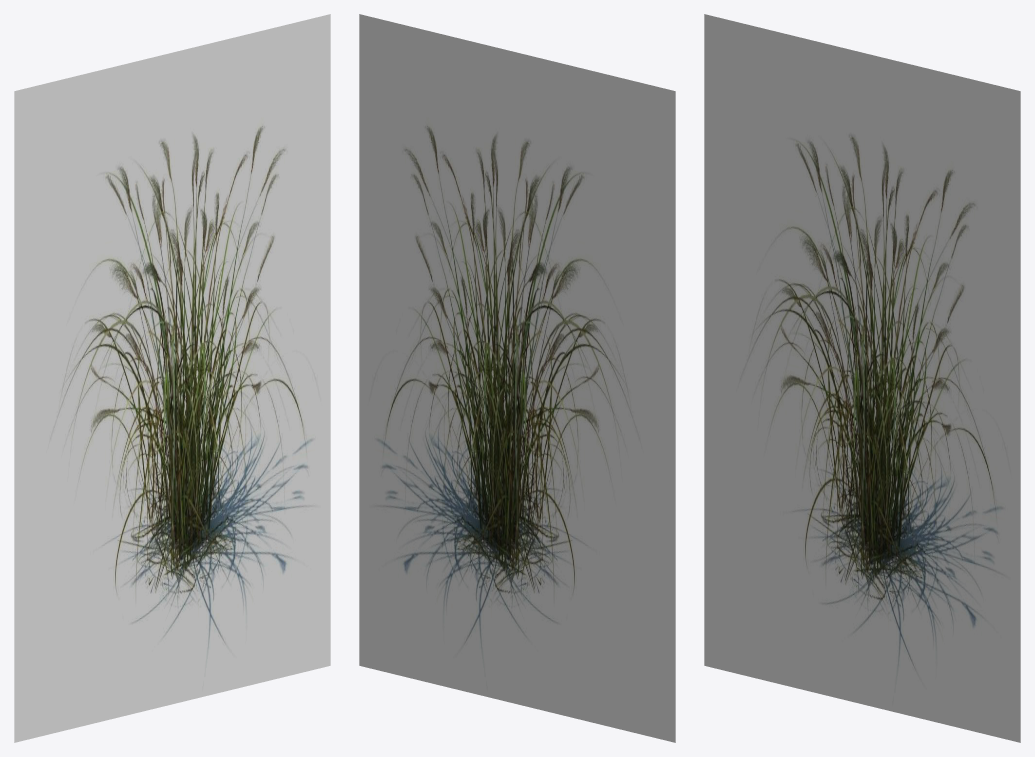
File: 长的草平面.gltf
3 views of the same model, side by side, from view 1: azimuth 30°, elevation 25°; view 2: azimuth 150°, elevation 25°; view 3: azimuth 330°, elevation 25° (orthographic).
Visible parts, largest first — view 1: 平面; view 2: 平面; view 3: 平面.
Part boxes in pixels (x1,y1,x2,y2): 平面: (14,14,330,742); 平面: (359,14,675,742); 平面: (704,14,1020,742).
Size of the model in its own units: 2.84 by 5.58 by 2.05e-08.
Materials: 1 (1 with a texture image).
